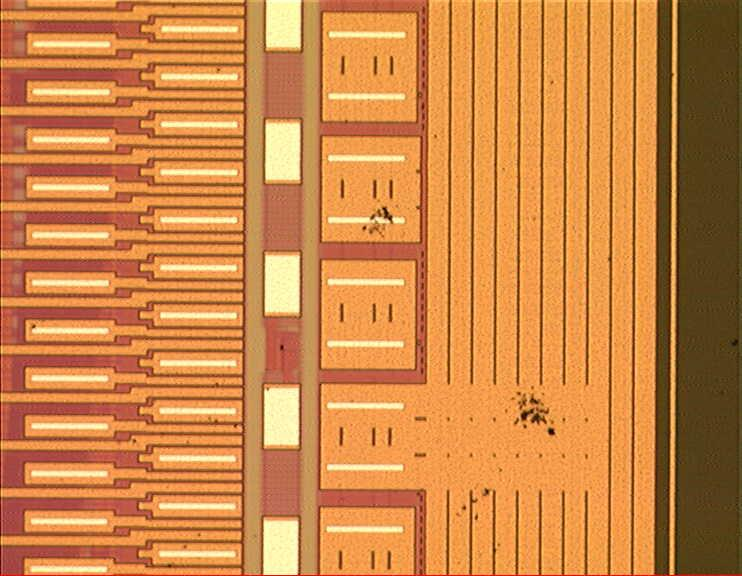PO CONTAMINATION: (360, 203, 742, 523)
